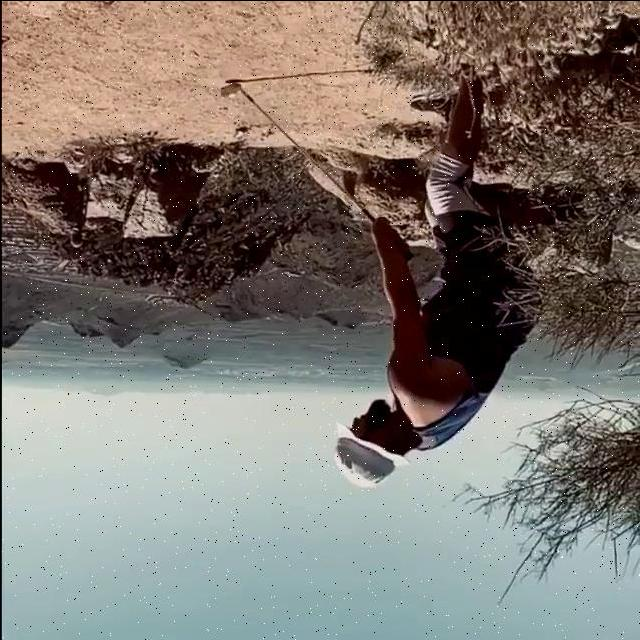ClubHandle: (219, 81, 411, 260)
ClubHead: (219, 81, 240, 95)
GolfBall: (227, 93, 235, 97)
